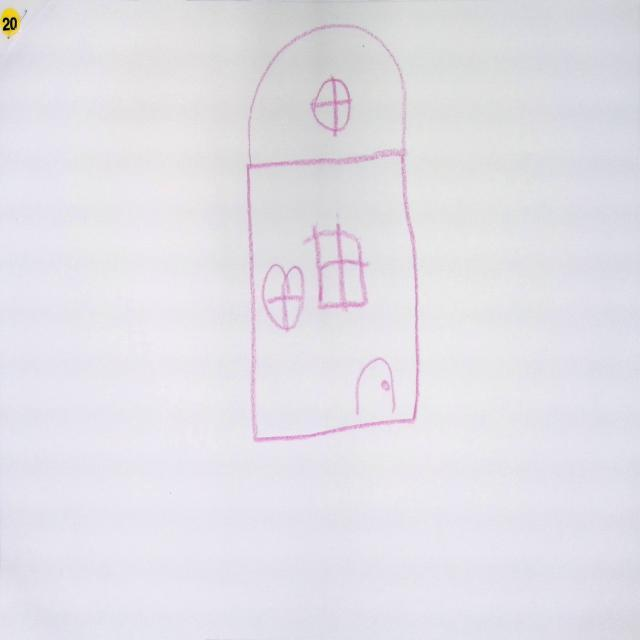door: (357, 358, 396, 418)
house: (247, 25, 419, 441)
roof: (245, 25, 407, 164)
wall: (245, 152, 419, 442)
window: (306, 224, 368, 310), (262, 264, 304, 332), (311, 76, 352, 136)
